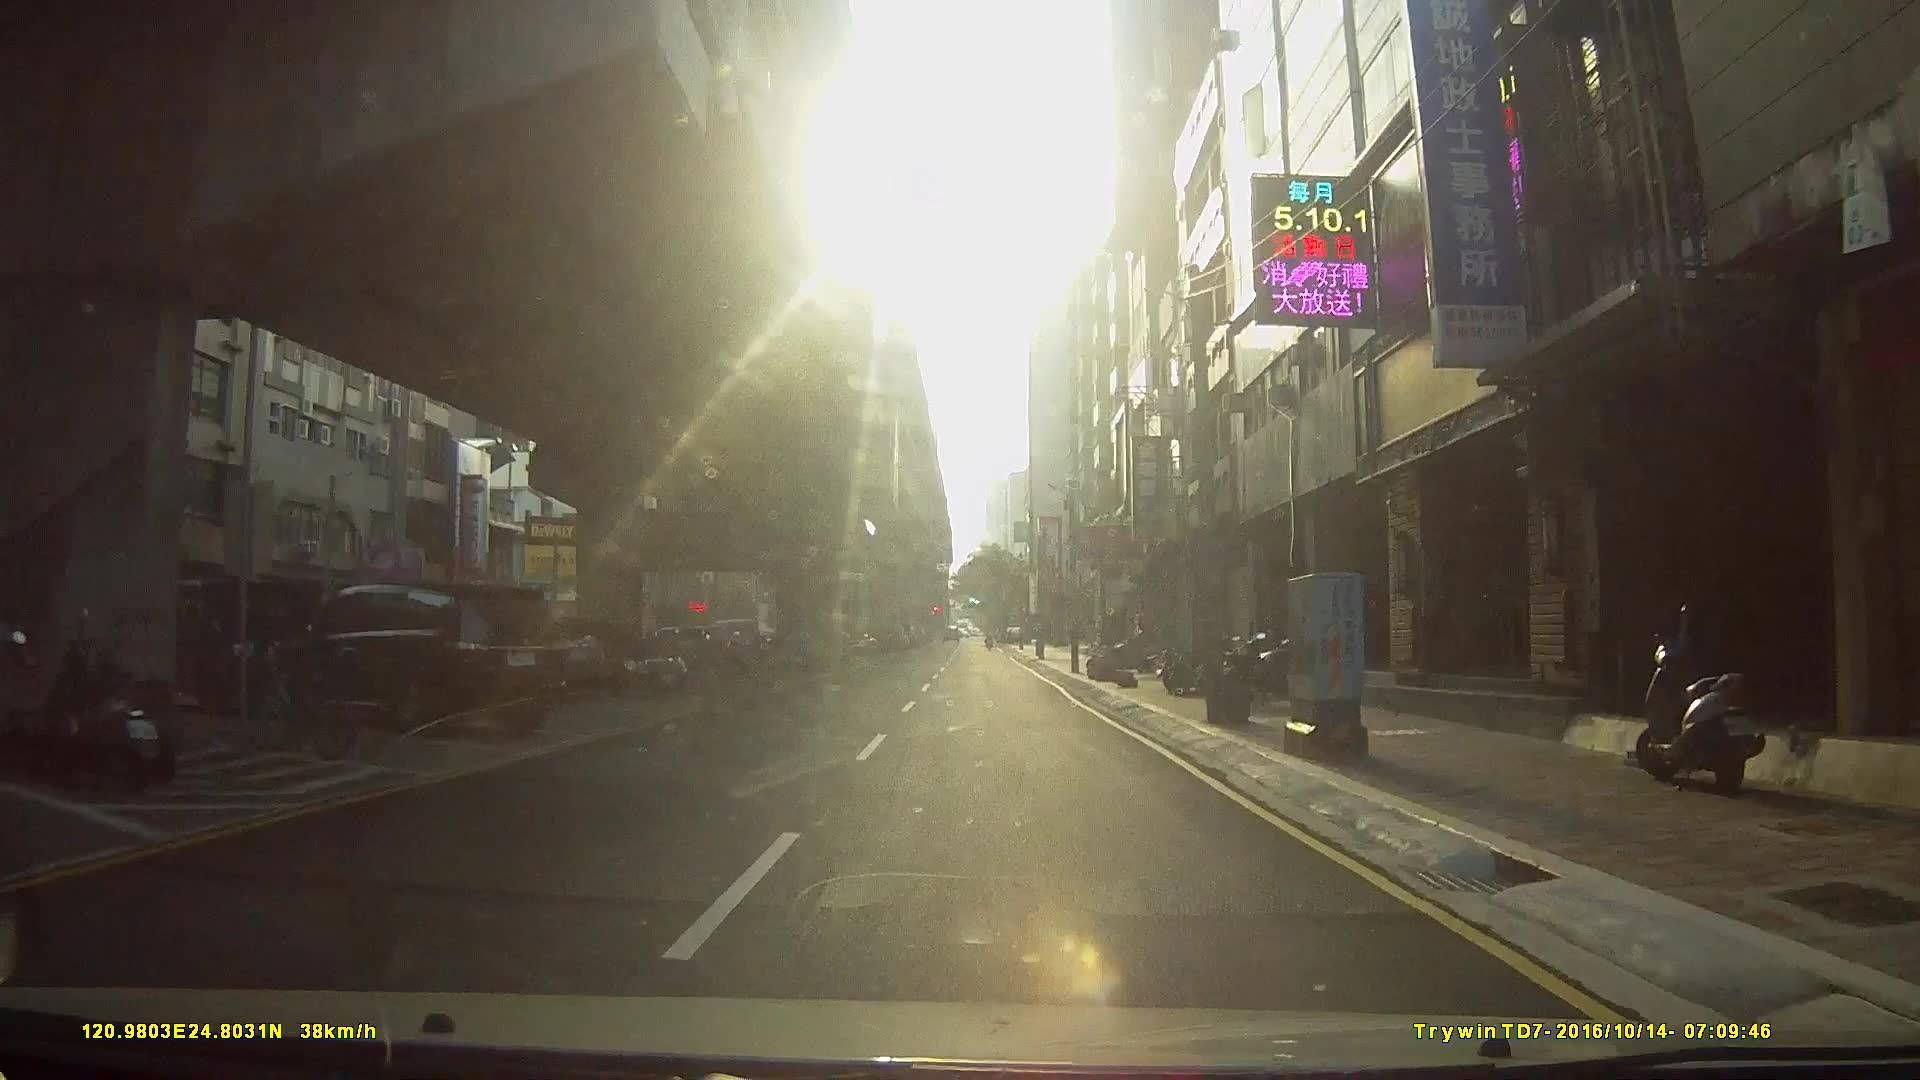vehicle: (251, 578, 560, 735), (111, 572, 311, 707), (558, 620, 684, 694)
